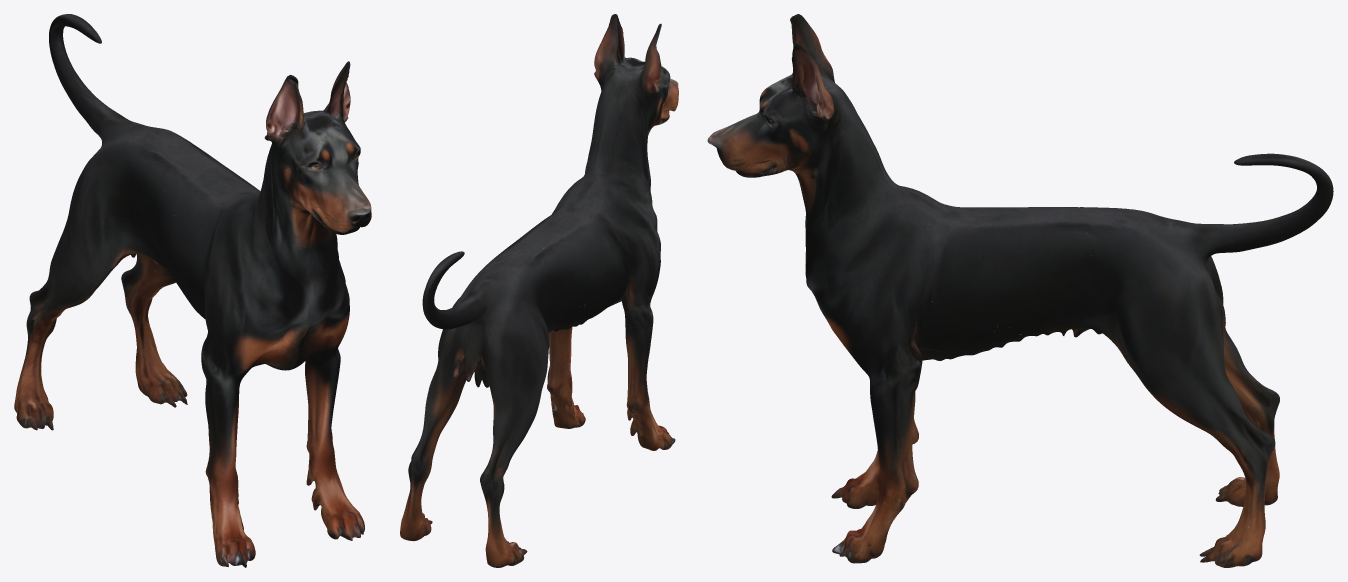
Rendered from oDog-v2.glb.
The picture shows the model from 3 angles, left to right: view 1: azimuth 30°, elevation 25°; view 2: azimuth 150°, elevation 25°; view 3: azimuth 270°, elevation 25°; orthographic projection. The views are drawn at different scales.
Visible parts, largest first — view 1: Object_4, Object_5; view 2: Object_4, Object_5; view 3: Object_4, Object_5.
Part boxes in pixels (box(x1,y1,x2,y2)): Object_4: box(29, 14, 371, 535); Object_5: box(14, 29, 364, 567); Object_4: box(400, 14, 678, 550); Object_5: box(400, 114, 675, 567); Object_4: box(707, 14, 1333, 566); Object_5: box(831, 137, 1279, 567).
Size of the model in its own units: 0.5716 by 1.79 by 2.01.
Materials: 1 (1 with a texture image).
